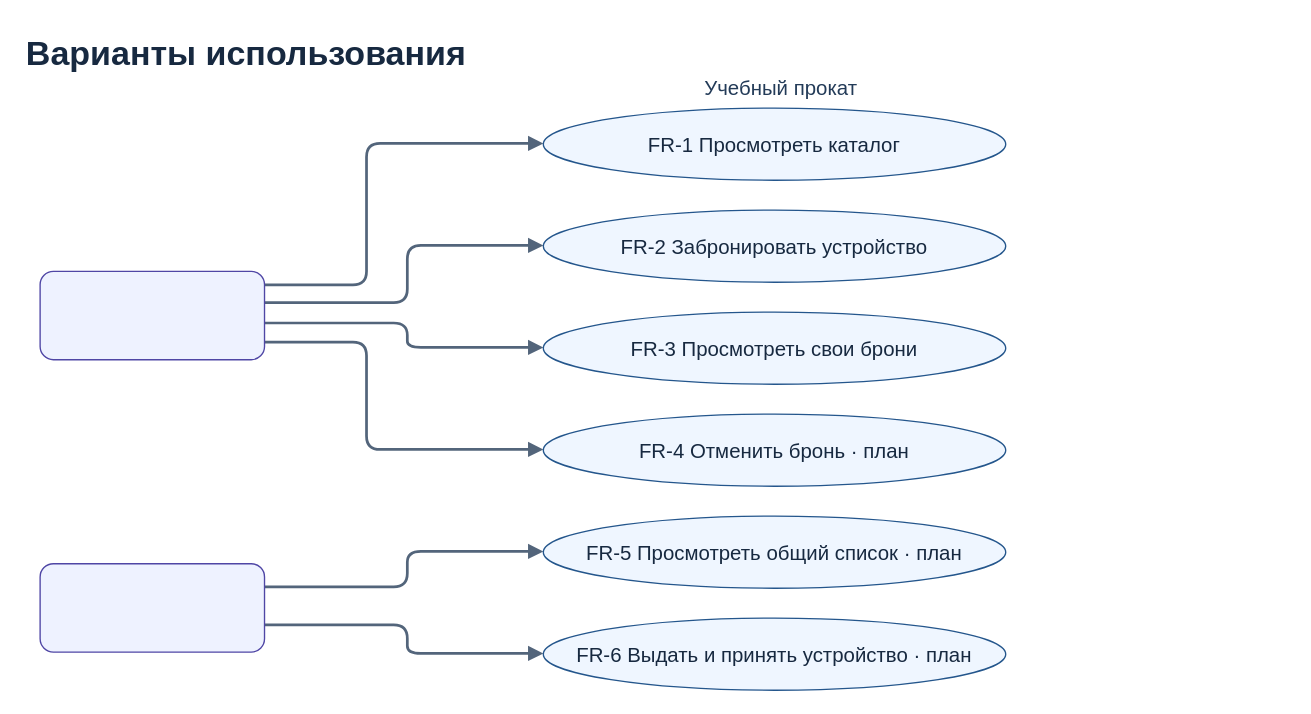
This 1311x714 diagram has some shape labels left out. The centre of each missing label's shape, as x and y in pixels:
Ответственный: the point at 152,607
Студент: the point at 152,315
